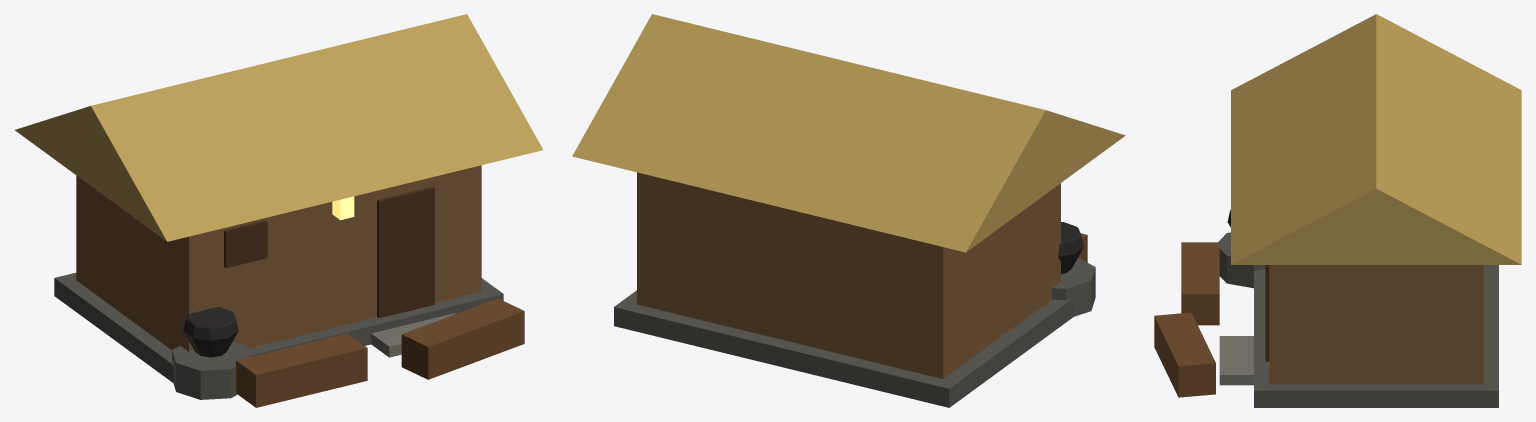
Rendered from a2m_soup_house.glb.
The picture shows the model from 3 angles, left to right: view 1: azimuth 30°, elevation 25°; view 2: azimuth 150°, elevation 25°; view 3: azimuth 270°, elevation 25°; orthographic projection. The views are drawn at different scales.
Parts seen in each view (by area): view 1: a2m_soup_house; view 2: a2m_soup_house; view 3: a2m_soup_house.
Part boxes in pixels (x1,y1,x2,y2): a2m_soup_house: (15,14,543,407); a2m_soup_house: (572,14,1125,407); a2m_soup_house: (1154,14,1521,407).
Size of the model in its own units: 5.4 by 3.35 by 4.8.
